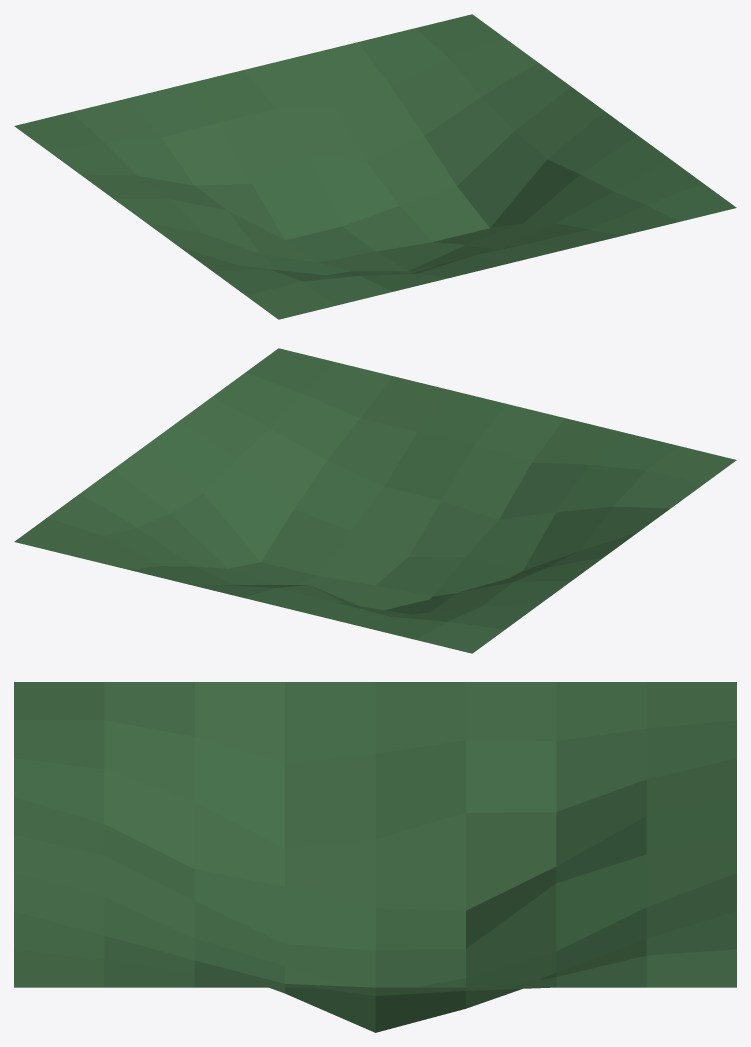
Rendered from Terrain_17_Light_Green.fbx.
3 renders of one model, top to bottom at view 1: azimuth 30°, elevation 25°; view 2: azimuth 150°, elevation 25°; view 3: azimuth 270°, elevation 25°, orthographic. The views are drawn at different scales.
Parts seen in each view (by area): view 1: Terrain_17_Light_Green; view 2: Terrain_17_Light_Green; view 3: Terrain_17_Light_Green.
Boxes of the visible parts, x1=… form: Terrain_17_Light_Green: x1=14, y1=14, x2=736, y2=319; Terrain_17_Light_Green: x1=14, y1=348, x2=736, y2=653; Terrain_17_Light_Green: x1=14, y1=682, x2=736, y2=1032.
Bounding box in the file's own units: 7000 × 1300 × 7000.
